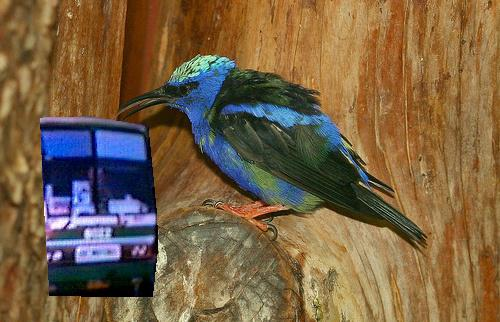tampered: (41, 117, 158, 297)
